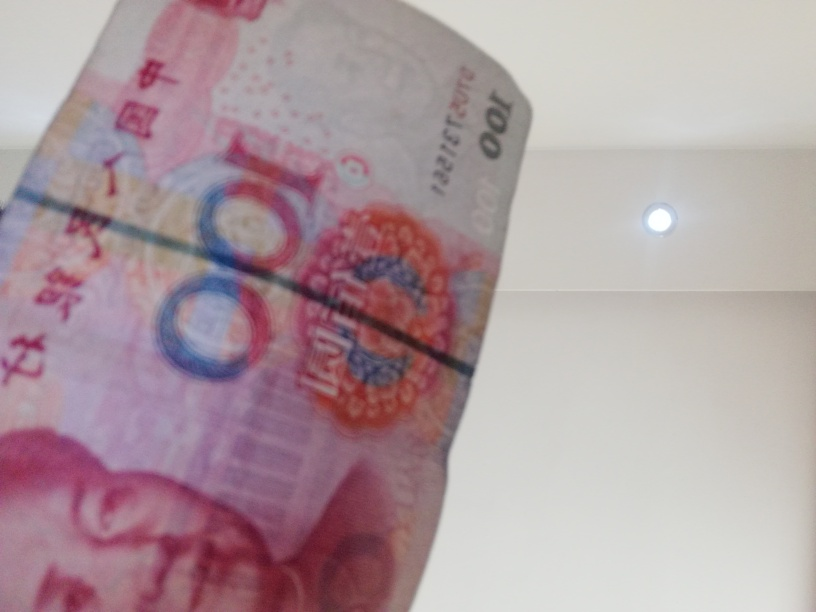rmb: (1, 6, 553, 612)
